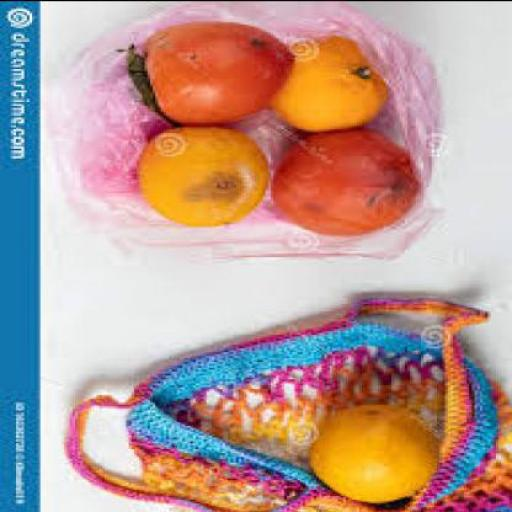biodegradable: (148, 17, 300, 122), (276, 126, 426, 232), (139, 122, 273, 223), (314, 401, 444, 501), (279, 31, 394, 128), (126, 39, 182, 122)
plastic: (80, 1, 444, 255)
